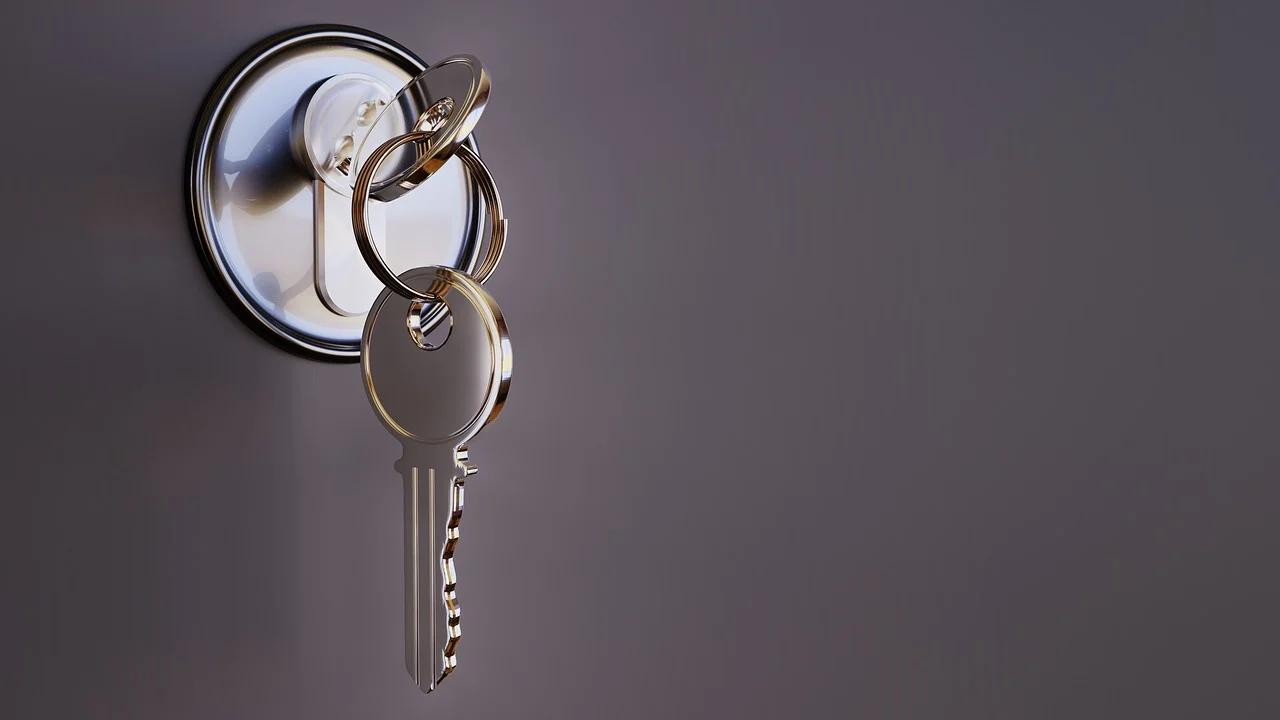key: (363, 271, 514, 690)
